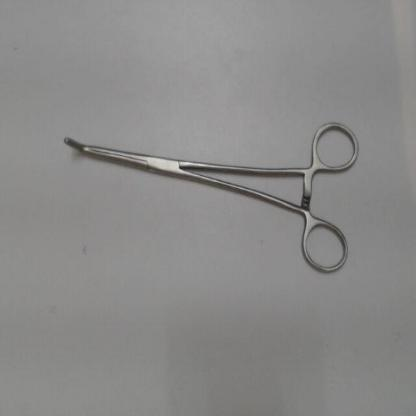Lahey Forceps: (56, 114, 366, 284)
